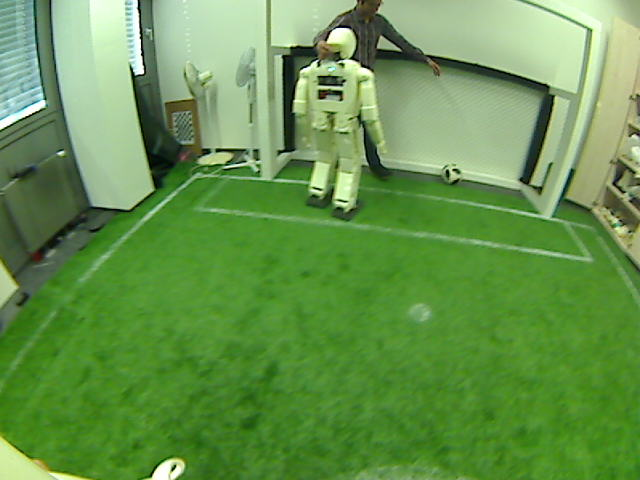ball: (438, 157, 464, 186)
goalpost: (536, 171, 559, 220), (259, 146, 276, 180)
robot: (302, 135, 368, 210)
